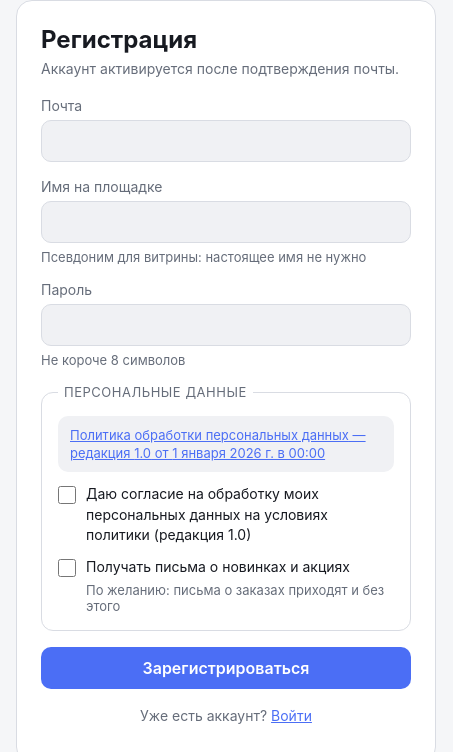
Scenario: переизданная политика просит согласиться заново
Expected: the link "редакция 1.0" is shown, [70,427,366,461]
Type "newbie@universe.test" into the field labelled "Почта". click: (226, 141)
box: [41,120,411,162]
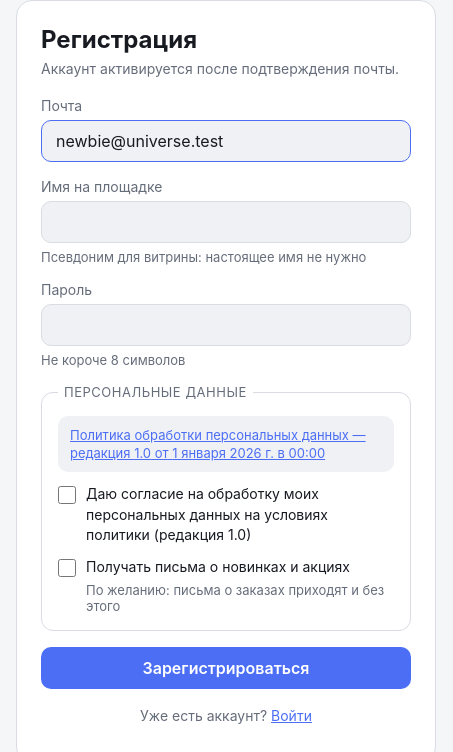
Type "Новичок" into the field labelled "Имя на площадке". click: (226, 222)
box: [41,201,411,243]
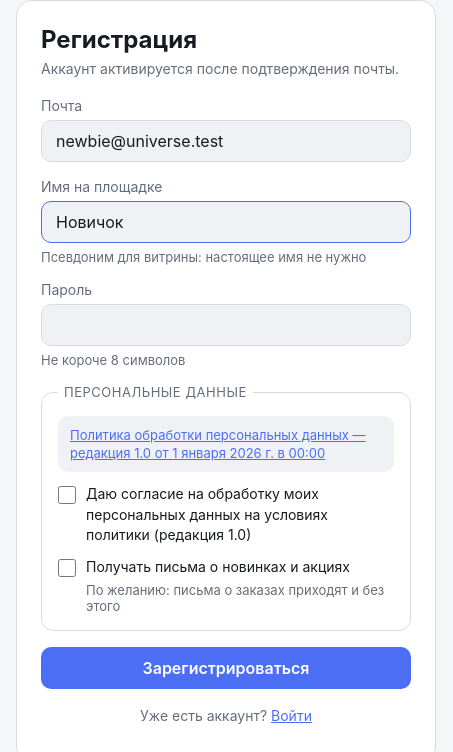
Type "password1" into the password field labelled "Пароль". click: (226, 325)
box: [41,304,411,346]
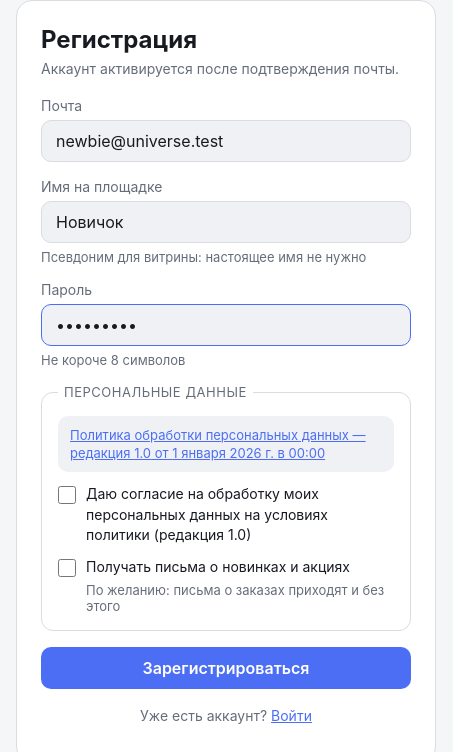
Click the checkbox labelled "Даю согласие на обработку". click: (67, 495)
box: [58,486,76,504]
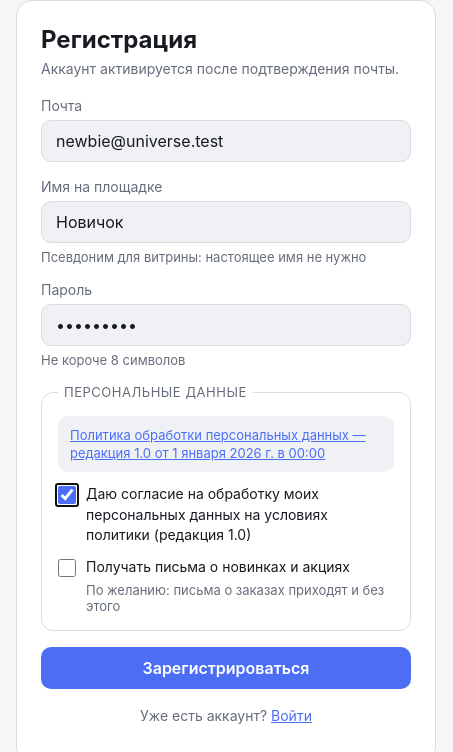
Click the button "Зарегистрироваться". click: (226, 668)
box: [41,647,411,689]
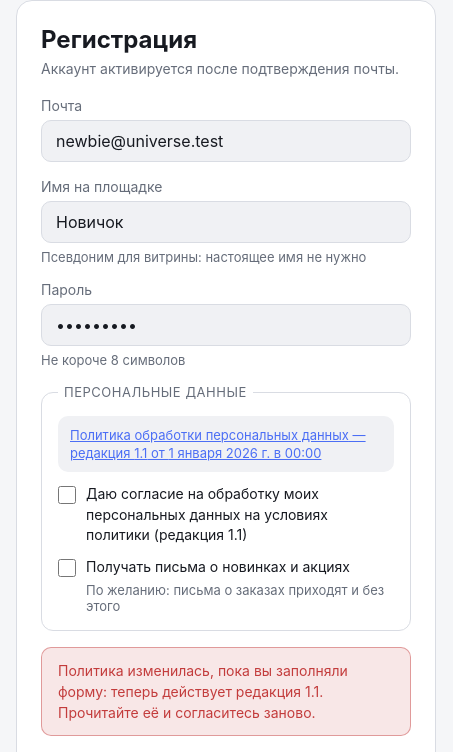
Result: the checkbox labelled "Даю согласие на обработку" is not checked at [58,486,76,504]
Result: the message shows "теперь действует редакция 1.1" at [58,662,348,721]
Result: the link "редакция 1.1" is shown at [70,427,366,461]
